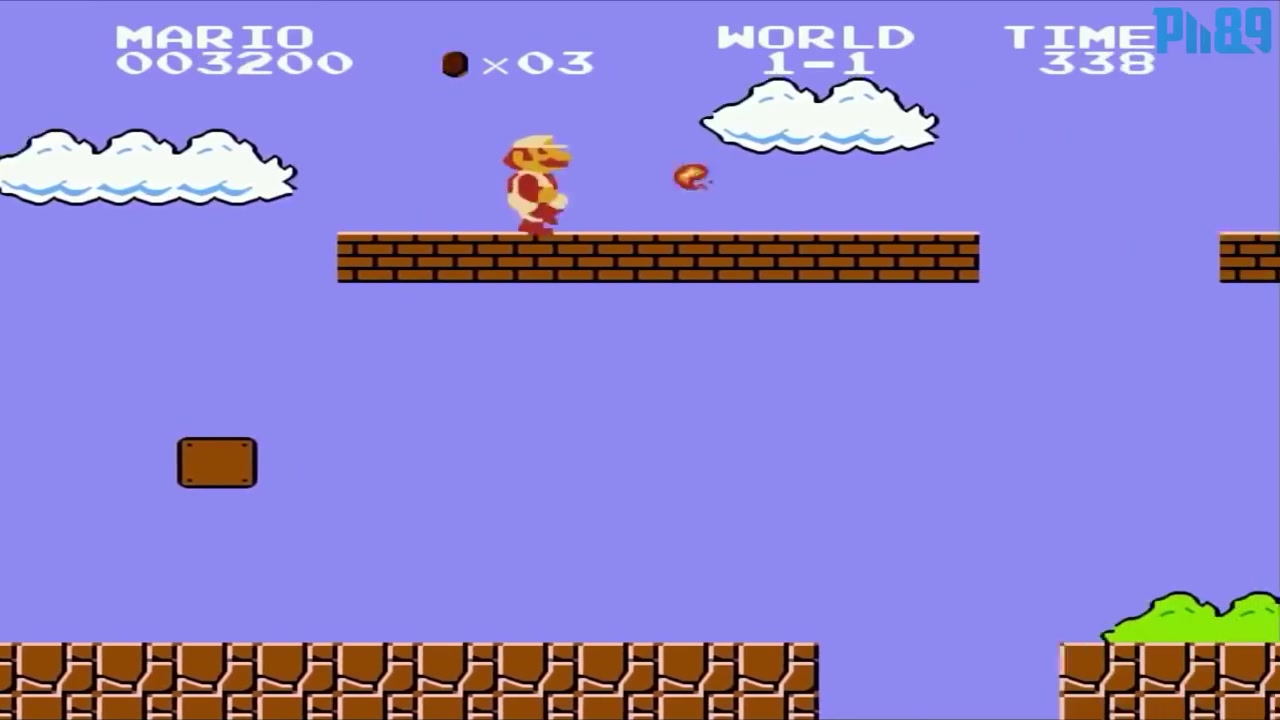mario: (496, 129, 583, 242)
